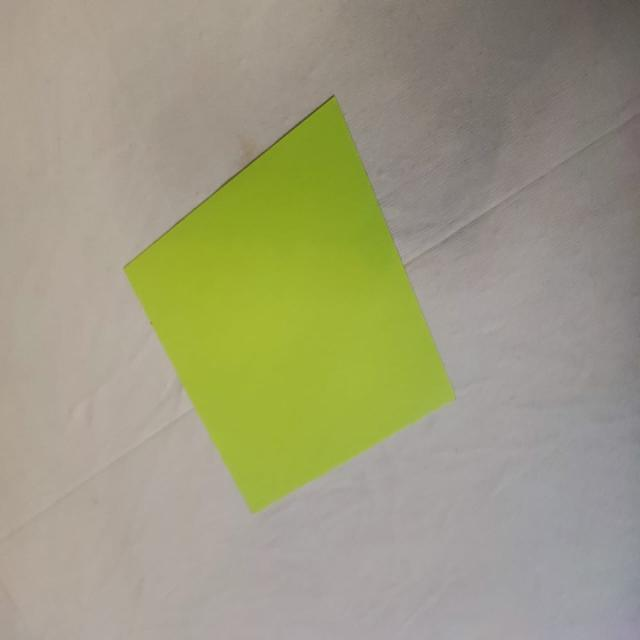Box: (122, 95, 456, 517)
